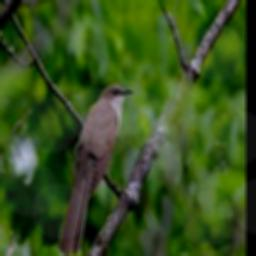Cuckoo: (58, 84, 133, 256)
